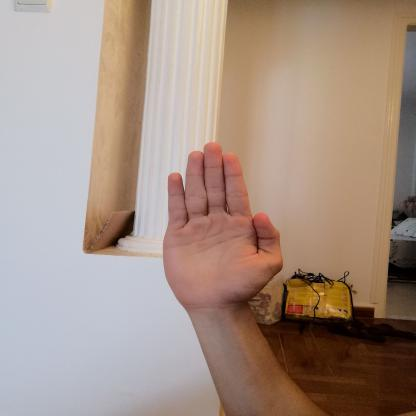SEEN: (149, 136, 293, 314)
